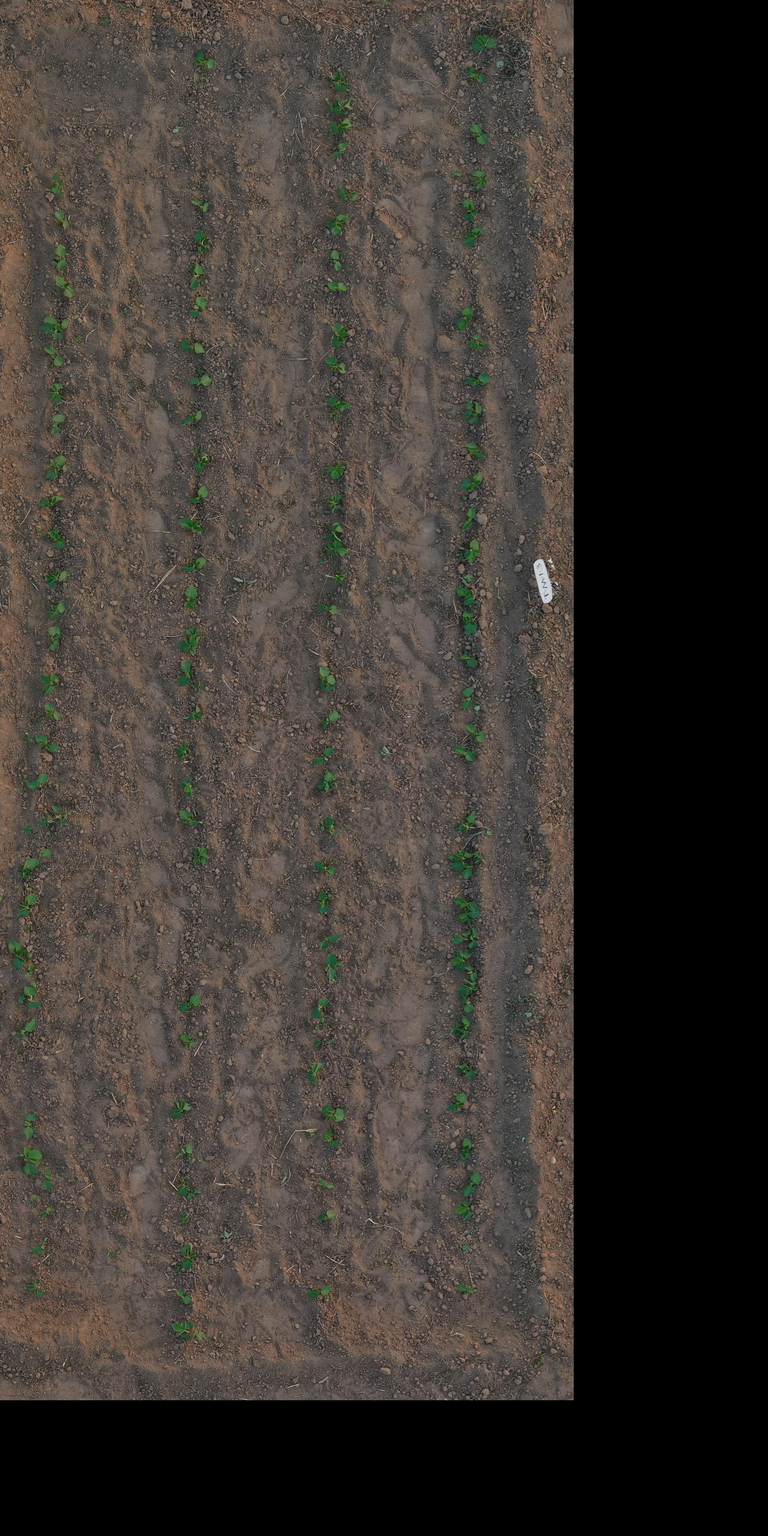s: (36, 804, 73, 828), (172, 1320, 204, 1342), (8, 940, 27, 971), (43, 455, 66, 480), (459, 470, 484, 493), (23, 1146, 42, 1176), (449, 950, 473, 972), (11, 1017, 36, 1038), (325, 214, 348, 236), (470, 34, 498, 52), (459, 538, 480, 562), (324, 953, 342, 981), (18, 858, 40, 880), (462, 226, 485, 247), (16, 893, 37, 916), (450, 1016, 471, 1039), (40, 672, 60, 696), (462, 1173, 482, 1197), (453, 897, 482, 913), (180, 1242, 196, 1271), (43, 344, 64, 366), (319, 816, 340, 838), (454, 308, 474, 331), (55, 274, 74, 298), (450, 860, 474, 879), (50, 244, 67, 270), (329, 70, 348, 93), (469, 122, 488, 145), (45, 570, 68, 589), (43, 316, 70, 332), (35, 734, 59, 752), (23, 985, 41, 1009), (178, 994, 202, 1012), (178, 518, 203, 535), (462, 398, 482, 419), (22, 1112, 37, 1140), (447, 1092, 468, 1112), (177, 634, 199, 653), (312, 747, 334, 766), (464, 724, 486, 743), (324, 356, 347, 374), (180, 775, 198, 798), (321, 1104, 344, 1122), (193, 51, 216, 69), (331, 324, 348, 348), (178, 660, 193, 687), (38, 324, 63, 340), (181, 557, 206, 573), (324, 522, 344, 542), (456, 586, 476, 606), (47, 528, 66, 549), (316, 772, 337, 791), (311, 998, 330, 1019), (455, 813, 476, 832), (186, 486, 208, 504), (188, 296, 206, 318), (170, 1100, 192, 1118), (37, 495, 65, 509), (331, 98, 354, 115), (26, 773, 49, 790), (458, 907, 481, 924), (189, 263, 204, 289), (461, 507, 477, 531), (462, 611, 478, 635), (455, 1200, 474, 1220), (179, 340, 206, 354), (45, 602, 66, 620), (447, 848, 474, 862), (307, 1062, 325, 1083), (178, 810, 203, 825), (454, 745, 476, 762), (316, 892, 333, 914), (330, 118, 353, 134), (319, 934, 342, 950), (48, 625, 62, 651), (320, 711, 339, 730), (470, 170, 488, 190), (188, 375, 212, 390), (458, 978, 478, 996), (322, 1128, 340, 1148), (193, 453, 210, 474), (465, 443, 486, 460), (328, 540, 349, 557), (328, 396, 350, 412), (464, 373, 491, 386), (462, 199, 477, 222), (459, 650, 478, 668), (27, 1280, 46, 1298), (466, 66, 486, 83), (192, 846, 209, 866), (194, 230, 208, 254), (326, 493, 342, 514), (466, 334, 487, 350), (184, 586, 198, 610), (456, 1062, 477, 1078), (48, 382, 63, 404), (467, 402, 482, 424), (306, 1286, 333, 1298), (319, 666, 336, 685), (325, 570, 348, 584), (54, 210, 70, 230), (50, 414, 66, 434), (182, 704, 202, 720), (461, 686, 474, 710), (339, 187, 361, 201), (314, 861, 336, 875), (328, 463, 346, 480), (44, 703, 61, 721), (329, 142, 348, 158), (174, 1144, 193, 1160), (182, 410, 202, 425), (315, 602, 338, 615), (177, 1176, 191, 1197), (174, 742, 191, 759), (32, 1237, 48, 1255), (452, 930, 471, 945), (460, 995, 475, 1014), (330, 249, 342, 272), (460, 1137, 472, 1160), (44, 184, 65, 197), (190, 199, 210, 212), (185, 626, 203, 640), (467, 928, 478, 950), (50, 170, 60, 194), (176, 1289, 192, 1304), (464, 965, 478, 982), (459, 1281, 476, 1295), (318, 1210, 336, 1223), (327, 281, 348, 292), (180, 1034, 197, 1047), (320, 678, 334, 692), (39, 1207, 55, 1218), (316, 1180, 334, 1189), (313, 1040, 332, 1048), (178, 1213, 190, 1225), (458, 1244, 469, 1252), (27, 949, 35, 958)
